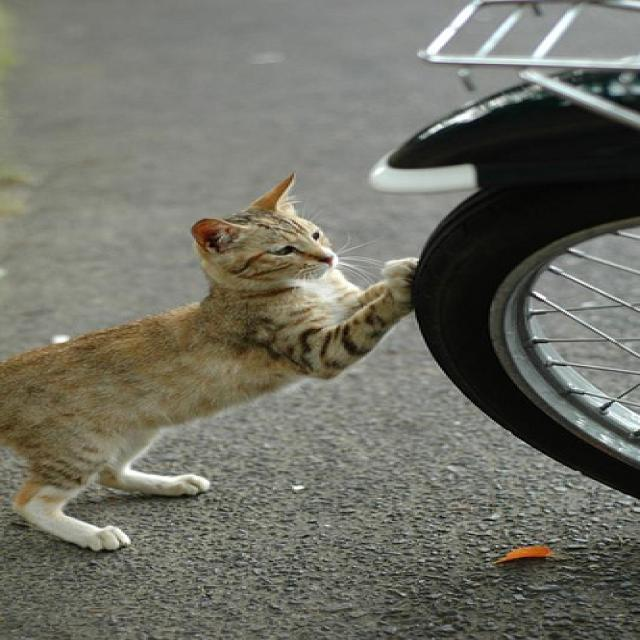motor: (365, 3, 635, 499)
